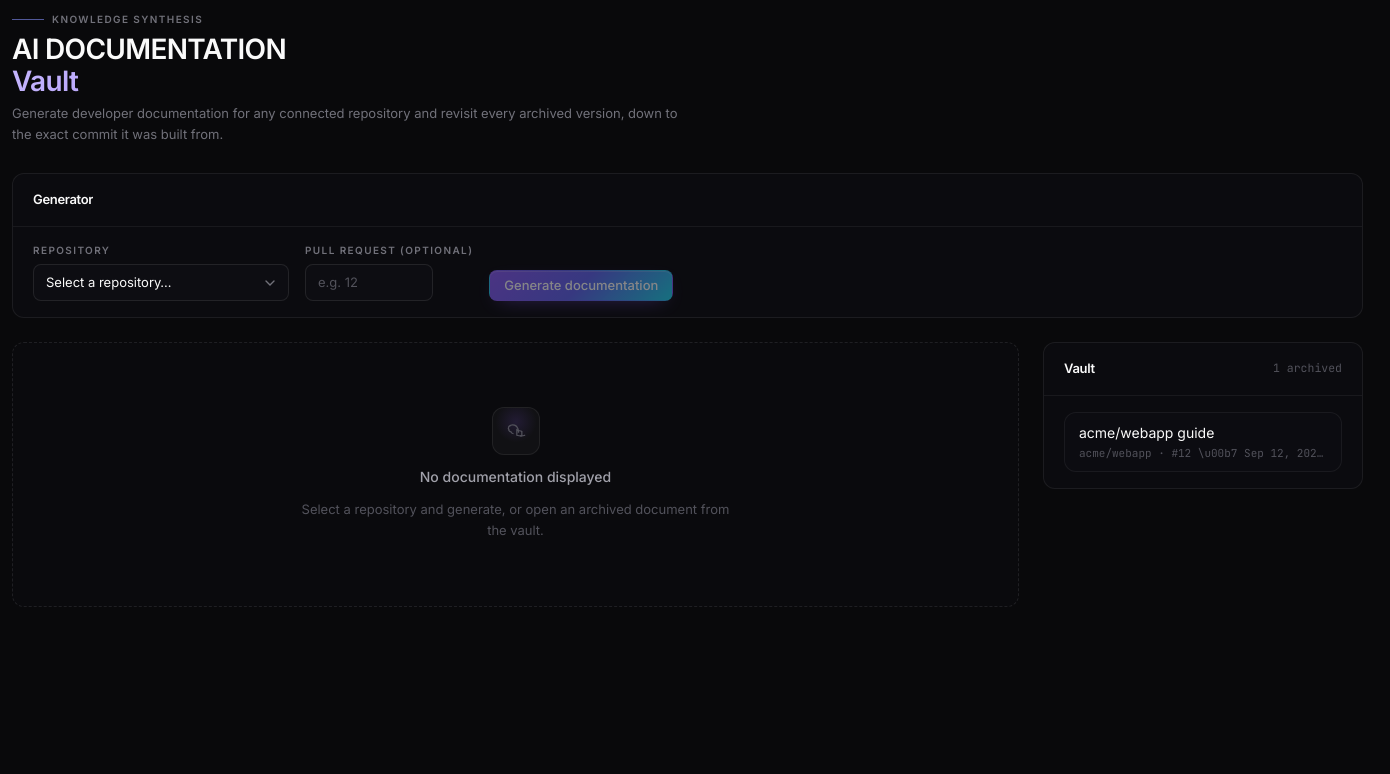
DocumentsPage › opens an archived document from the vault
Check: the text "No documentation displayed" is shown, box [420,467,611,487]
Click the button "acme/webapp guide" at coordinates (1203, 442), box [1064,412,1342,472]
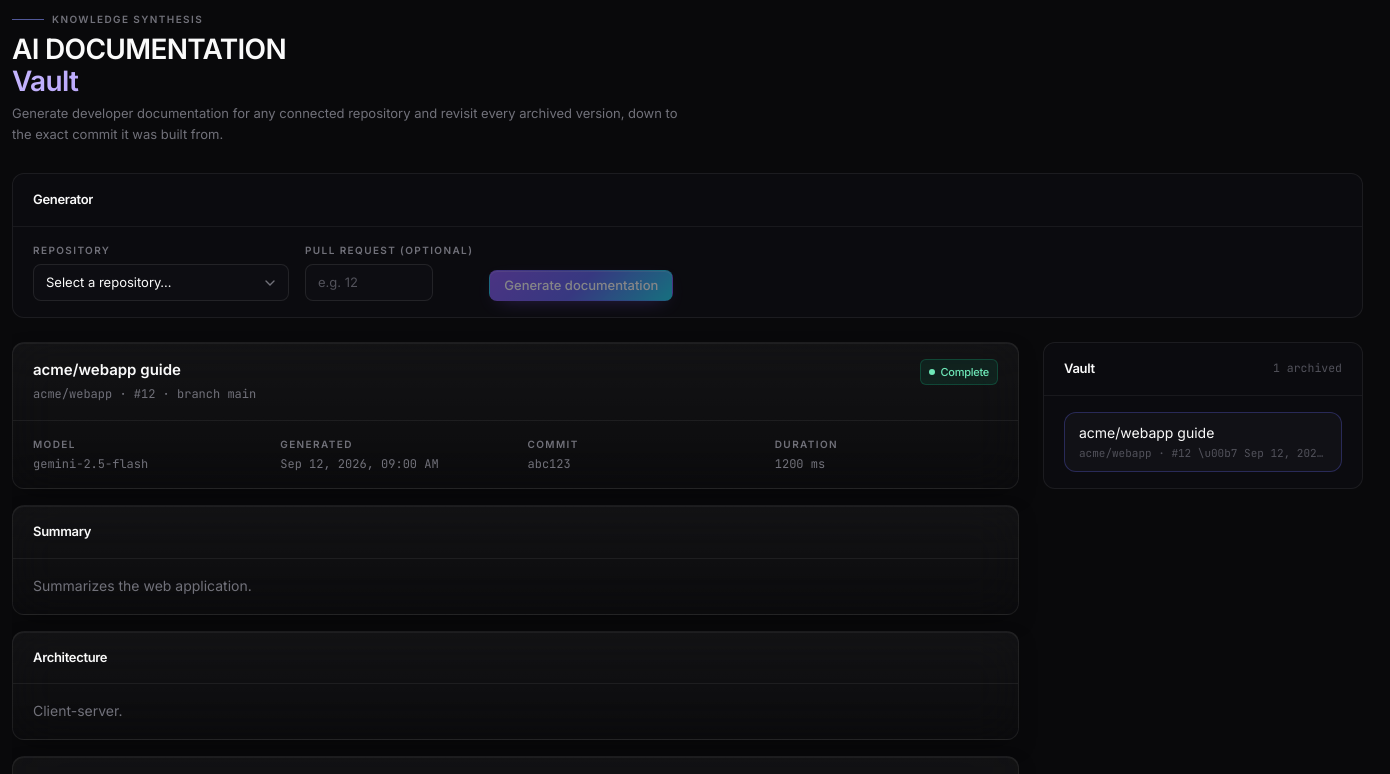
Check: the text "Summarizes the web application." is shown, box [33,577,252,594]
Check: the text "Client-server." is shown, box [33,702,122,719]
